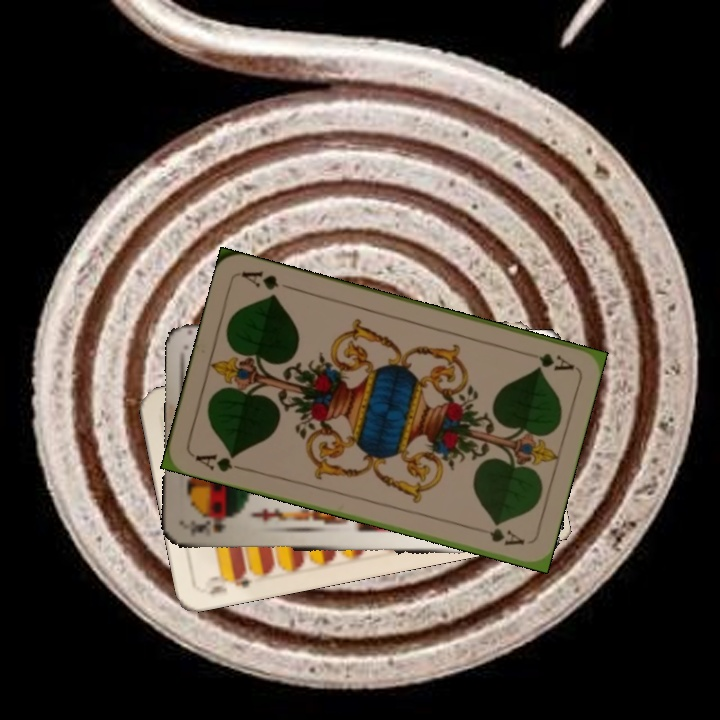E10: (200, 566, 254, 599)
GA: (191, 450, 248, 475), (534, 349, 577, 374)
SK: (187, 515, 228, 539)
